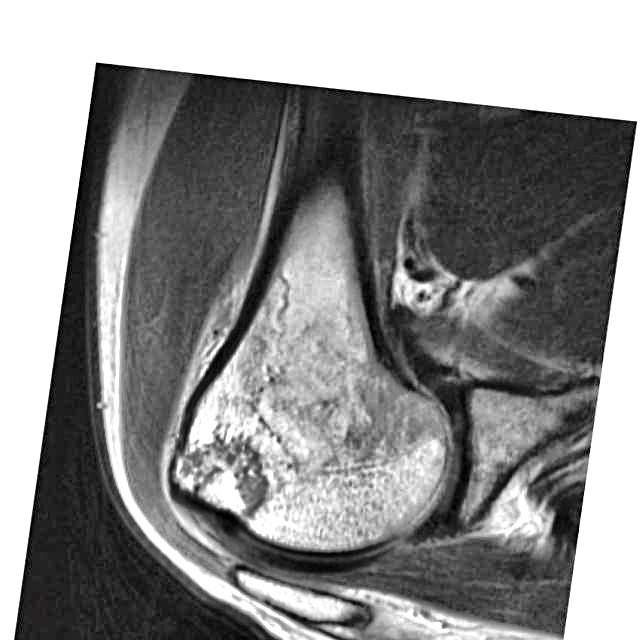Comminuted: (161, 427, 288, 530)
